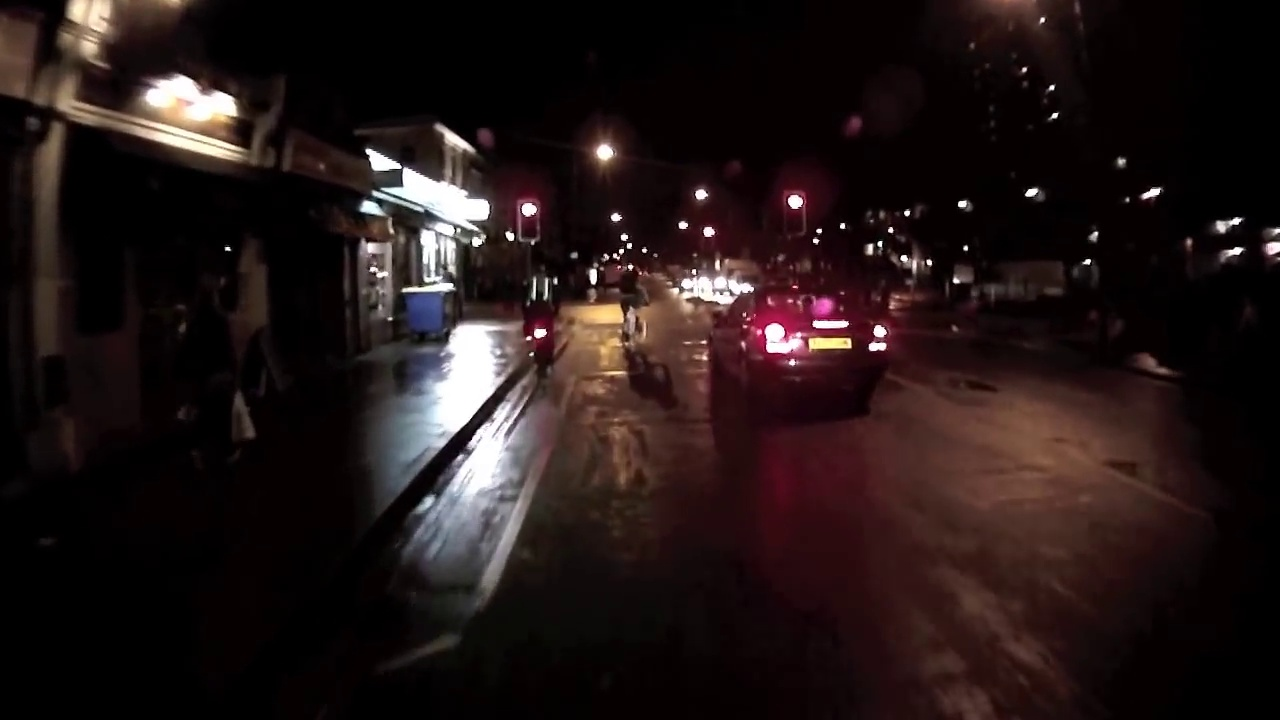cyclist_back: (614, 259, 651, 358)
